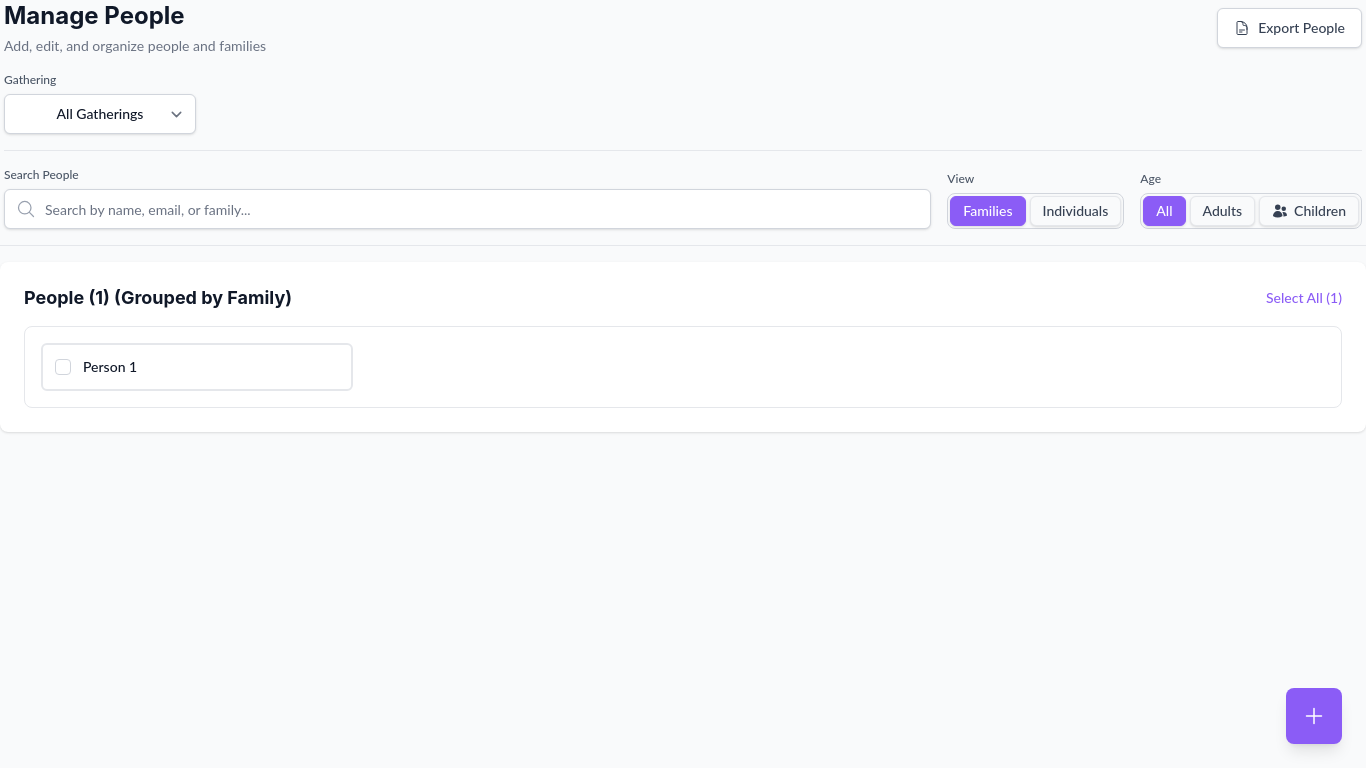
Test: PeoplePage provider import › opens Copy & Paste in the add modal
The width and height of the screenshot is (1366, 768).
Step 1. Click the button named "Add people" → [1314, 716], box [1286,688,1342,744]
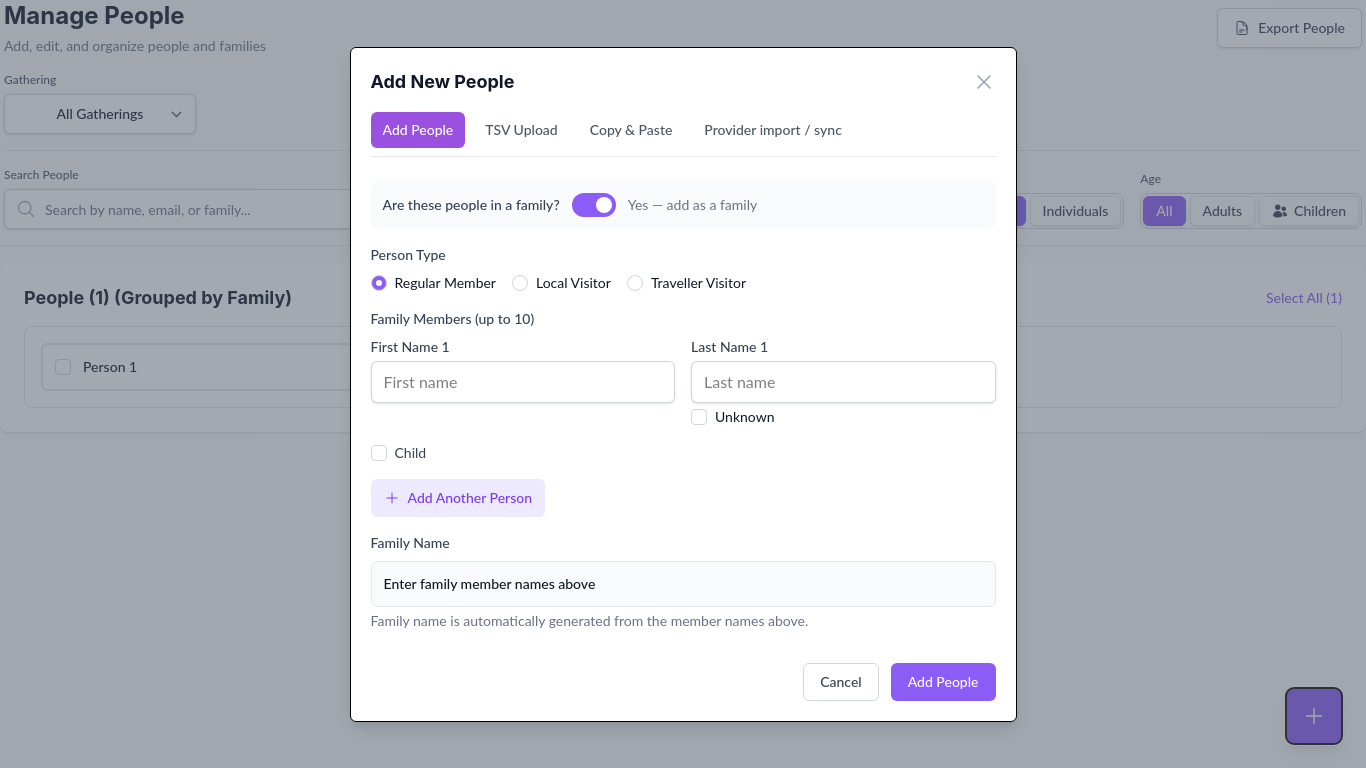
Step 2. Click the tab "Copy & Paste" → [631, 130], box [578,112,684,148]
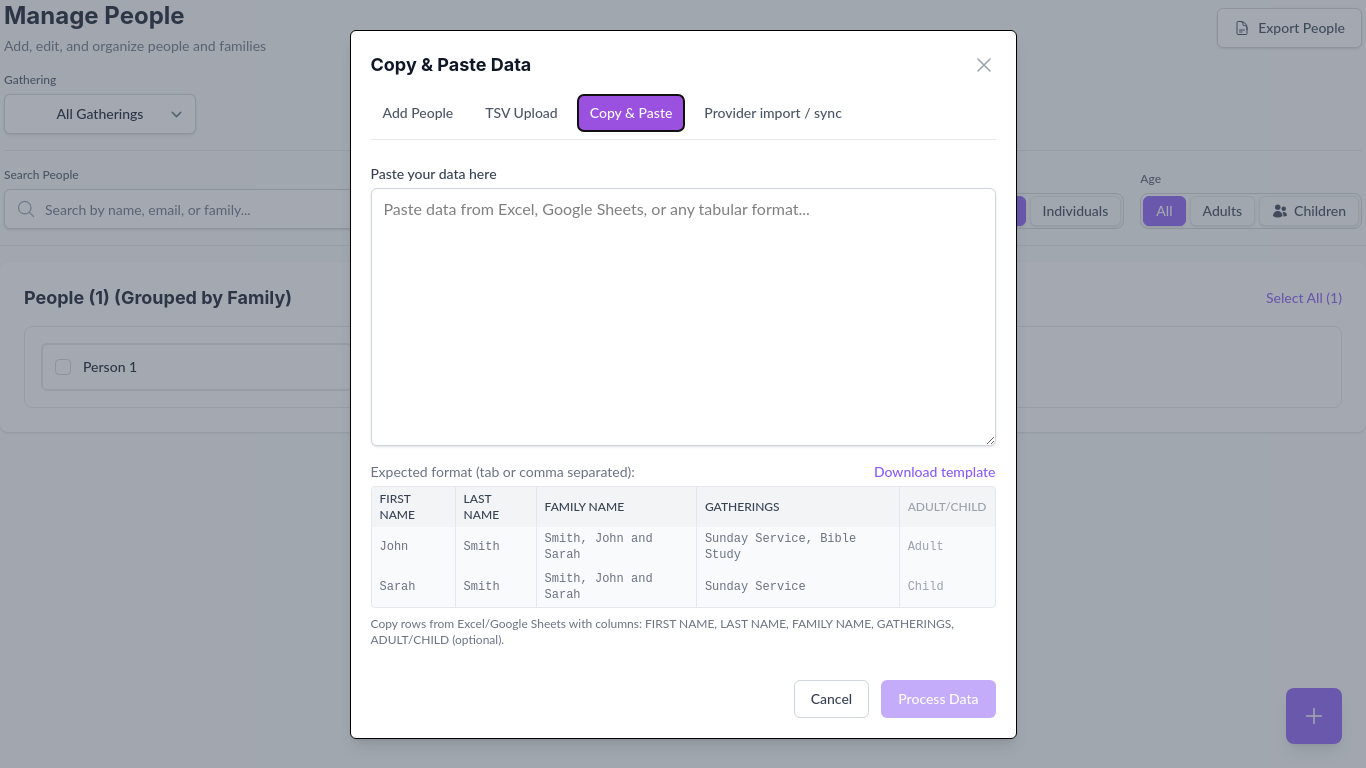
Now the heading "Copy & Paste Data" is shown, box [370,50,531,78]
